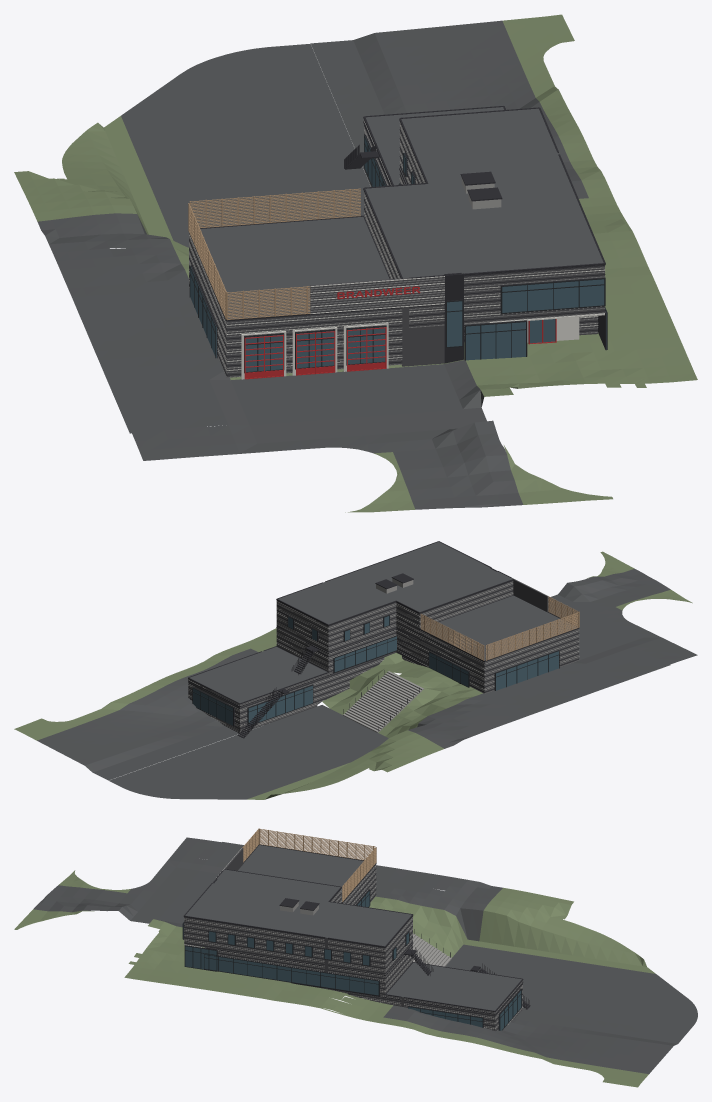
File: fire-station-anton.glb
The picture shows the model from 3 angles, top to bottom: view 1: azimuth 30°, elevation 25°; view 2: azimuth 150°, elevation 25°; view 3: azimuth 270°, elevation 25°; orthographic projection. The views are drawn at different scales.
Visible parts, largest first — view 1: fire-station-anton; view 2: fire-station-anton; view 3: fire-station-anton.
Part boxes in pixels (x1=…): fire-station-anton: x1=14, y1=14, x2=697, y2=512; fire-station-anton: x1=14, y1=541, x2=697, y2=799; fire-station-anton: x1=14, y1=828, x2=697, y2=1087.
Bounding box in the file's own units: 86.63 × 14.88 × 110.
